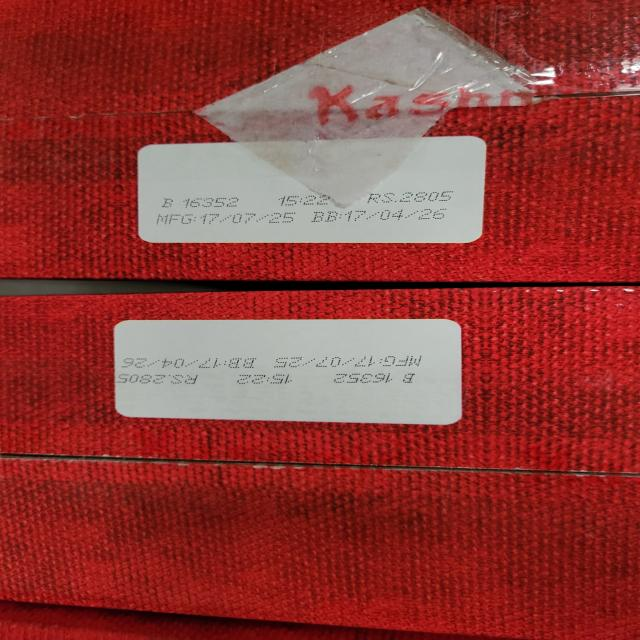BB: (117, 356, 263, 372), (312, 207, 451, 222)
Batch: (331, 371, 417, 384), (160, 197, 240, 209)
MFG: (272, 354, 433, 369), (154, 211, 296, 226)
RS: (111, 371, 202, 386), (370, 192, 456, 204)
TimeStamp: (232, 373, 296, 387), (275, 193, 336, 206)
